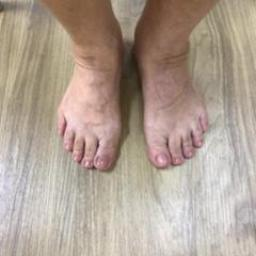Dorsal View -Both Feet-: (35, 4, 223, 182)
